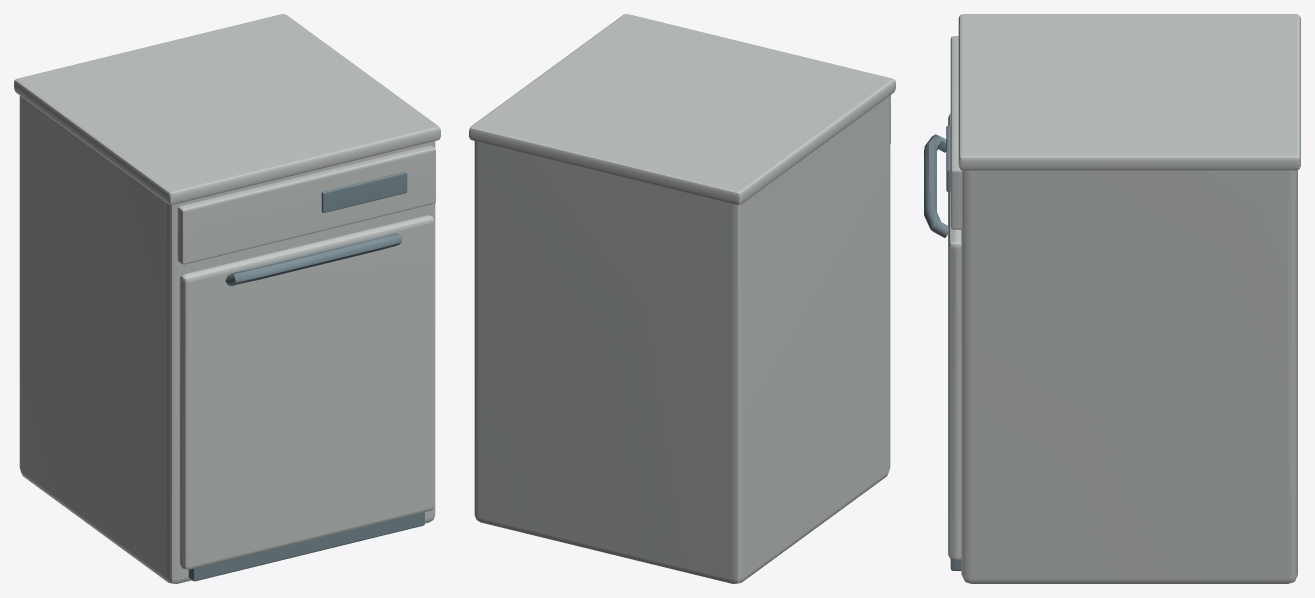
The model's file is dishwasher.glb.
3 renders of one model, left to right at view 1: azimuth 30°, elevation 25°; view 2: azimuth 150°, elevation 25°; view 3: azimuth 270°, elevation 25°, orthographic. The views are drawn at different scales.
Visible parts, largest first — view 1: appliance_body, dishwasher_door, control_fascia, top, kick_panel, dishwasher_pull, display; view 2: appliance_body, top; view 3: appliance_body, top, dishwasher_door, control_fascia, dishwasher_pull.
Boxes of the visible parts, x1,y1,x2,y2 form: appliance_body: (19, 18, 435, 583); dishwasher_door: (179, 215, 434, 569); control_fascia: (177, 145, 435, 264); top: (14, 14, 440, 204); kick_panel: (188, 512, 424, 581); dishwasher_pull: (225, 233, 402, 286); display: (321, 172, 407, 212); appliance_body: (474, 18, 890, 583); top: (469, 14, 895, 204); appliance_body: (961, 17, 1297, 583); top: (958, 14, 1300, 170); dishwasher_door: (948, 113, 961, 560); control_fascia: (950, 36, 961, 229); dishwasher_pull: (924, 134, 947, 237).
Bounding box in the file's own units: 0.61 × 0.85 × 0.6716.
